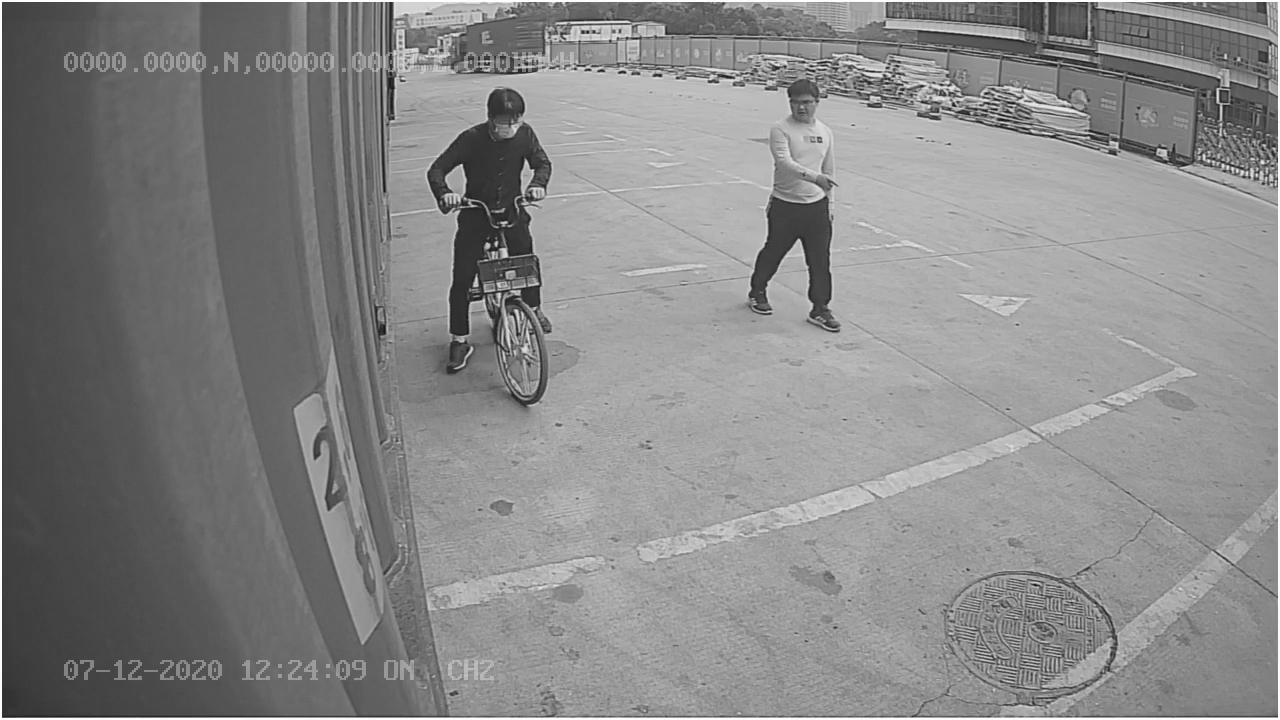person: (742, 73, 844, 334)
